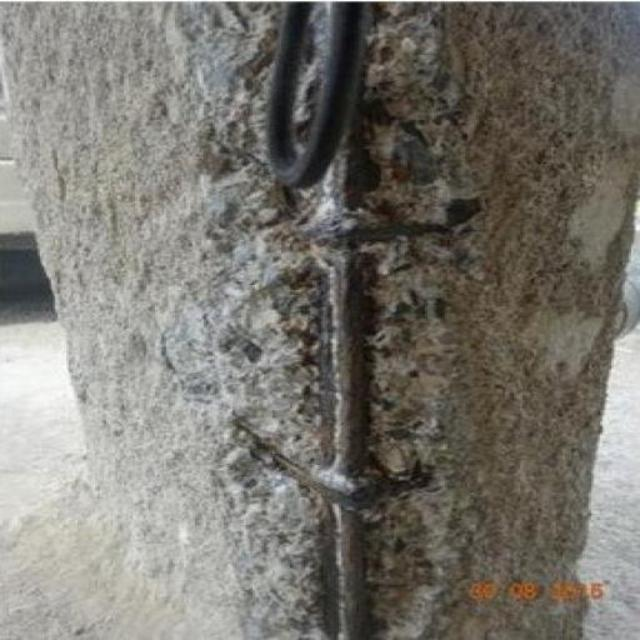D0w0: (174, 26, 525, 639)
